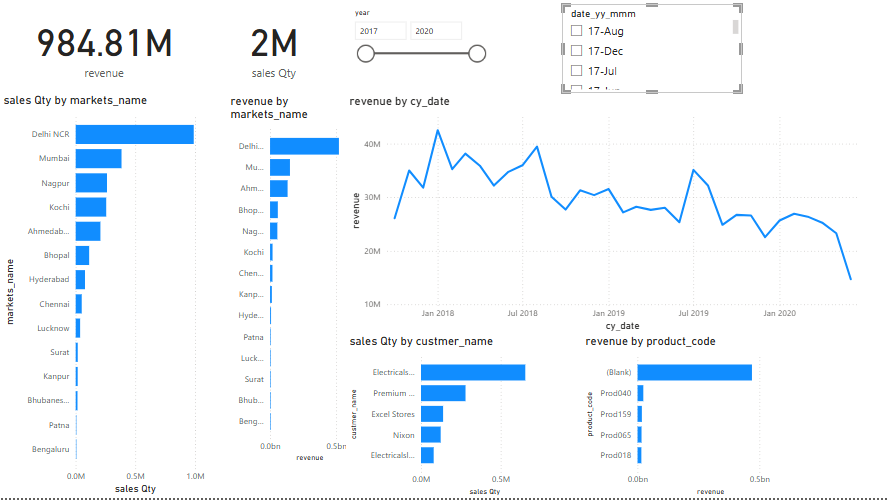

This screenshot's page, from the dashboard's own definition file:
{"tool":"powerbi","page":{"name":"Page 1","canvas":[1280,720],"ordinal":0},"visuals":[{"type":"card","fields":{"Values":["BaseMeasure (2).revenue"]},"box":[0,0,300,137.1],"z":0},{"type":"barChart","fields":{"Category":["sales markets.markets_name"],"Y":["BaseMeasure (2).sales Qty"]},"box":[0,137.1,300,582.9],"z":1000},{"type":"card","fields":{"Values":["BaseMeasure (2).sales Qty"]},"box":[262.9,0,261.4,137.1],"z":2000},{"type":"slicer","fields":{"Values":["sales date.date_yy_mmm"]},"box":[809.3,8.6,259.2,128.2],"z":3000},{"type":"barChart","fields":{"Category":["sales markets.markets_name"],"Y":["BaseMeasure (2).revenue"]},"box":[327.6,137.7,196.5,534.2],"z":4000},{"type":"slicer","fields":{"Values":["sales date.year"]},"box":[498.9,10.1,210,141.1],"z":5000},{"type":"barChart","fields":{"Category":["sales customers.custmer_name"],"Y":["BaseMeasure (2).sales Qty"]},"box":[498.9,483.8,310.8,236.9],"z":6000},{"type":"barChart","fields":{"Category":["sales products.product_code"],"Y":["BaseMeasure (2).revenue"]},"box":[838.2,483.8,310.8,236.9],"z":7000},{"type":"lineChart","fields":{"Y":["BaseMeasure (2).revenue"],"Category":["sales date.cy_date"]},"box":[498.9,137.7,755.9,346],"z":8000}]}

Visuals, with their boxes in screenshot pixels (x1, y1, x2, y2), scaled from the page's 1280x720 canvas onto the 888x500 screenshot:
card - BaseMeasure (2).revenue: 0 0 208 95
barChart - sales markets.markets_name x BaseMeasure (2).sales Qty: 0 95 208 499
card - BaseMeasure (2).sales Qty: 182 0 364 95
slicer - sales date.date_yy_mmm: 561 6 741 95
barChart - sales markets.markets_name x BaseMeasure (2).revenue: 227 96 364 467
slicer - sales date.year: 346 7 492 105
barChart - sales customers.custmer_name x BaseMeasure (2).sales Qty: 346 336 562 499
barChart - sales products.product_code x BaseMeasure (2).revenue: 582 336 797 499
lineChart - BaseMeasure (2).revenue x sales date.cy_date: 346 96 871 336
